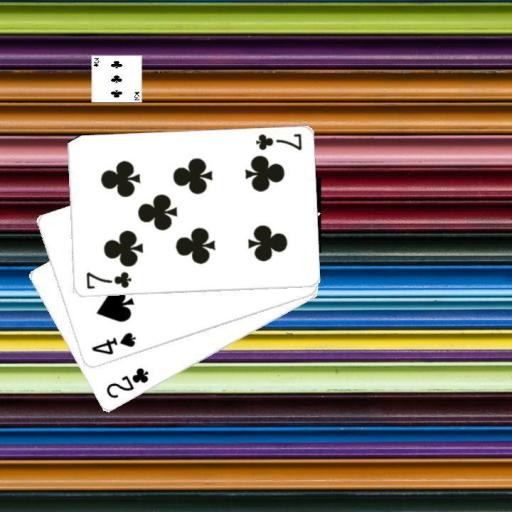card-corner: (102, 364, 150, 400), (88, 329, 137, 357), (252, 130, 303, 152), (82, 269, 132, 291)
